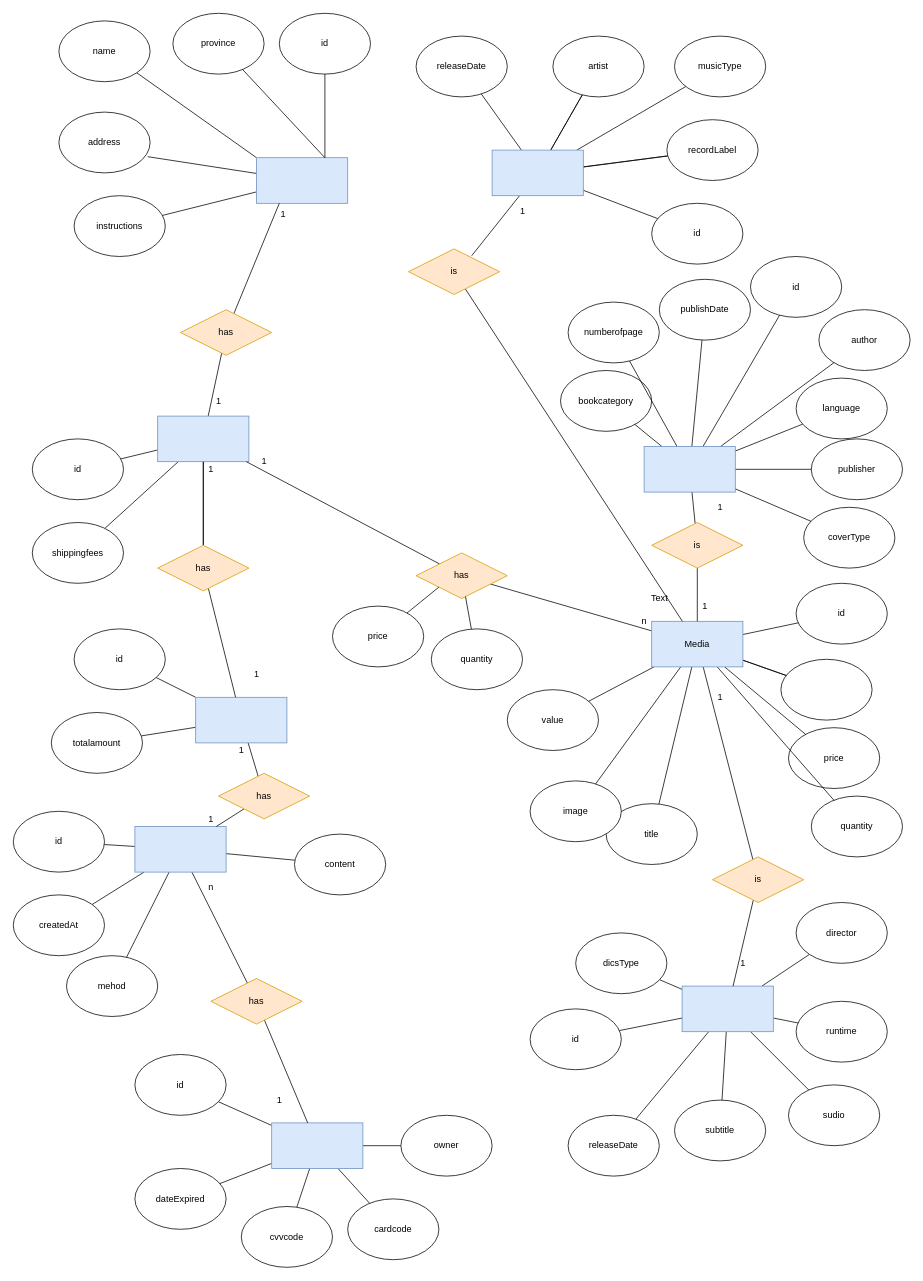
The diagram is 923 pixels wide and 1281 high, and some of its shapes have lost their labels. Each missing label, with the centre of its shape:
Book: pixel 689 469
Card: pixel 317 1145
category: pixel 826 689
CD: pixel 537 172
Deliveryinfo: pixel 302 180
DVD: pixel 727 1008
invoice: pixel 241 720
Order: pixel 203 438
paymentTransaction: pixel 180 849
